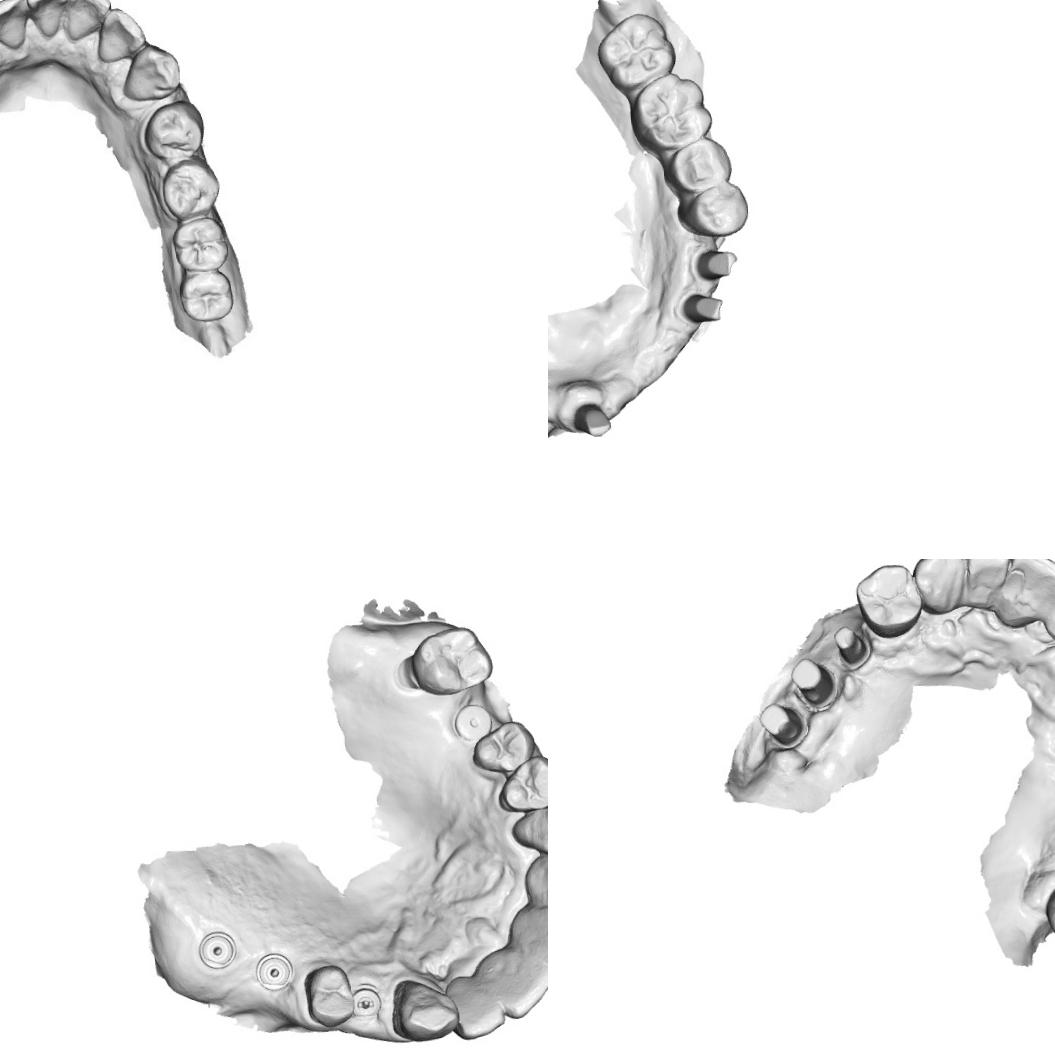abutment: (756, 698, 808, 749), (788, 654, 836, 708), (674, 288, 728, 330), (570, 397, 615, 441), (691, 244, 741, 283), (832, 622, 871, 671)
canine: (388, 974, 460, 1044), (116, 47, 178, 105), (910, 559, 967, 611), (509, 795, 548, 856)
implant: (251, 949, 294, 994), (450, 701, 494, 743), (196, 929, 238, 970)
implant_minus: (349, 981, 382, 1021)
incisor: (480, 944, 548, 1020), (443, 972, 507, 1042), (504, 898, 548, 970), (1006, 559, 1055, 610), (98, 8, 141, 58), (62, 0, 111, 41), (963, 559, 1012, 599), (27, 0, 68, 39), (522, 850, 548, 909), (0, 0, 22, 45)
molar: (628, 68, 713, 154), (594, 9, 679, 92), (408, 622, 494, 699), (168, 211, 232, 275), (175, 267, 236, 327)
premolar: (852, 560, 924, 640), (674, 181, 752, 243), (660, 135, 733, 196), (142, 98, 206, 160), (470, 718, 538, 774), (302, 960, 356, 1030), (157, 158, 220, 216), (494, 752, 548, 813)
